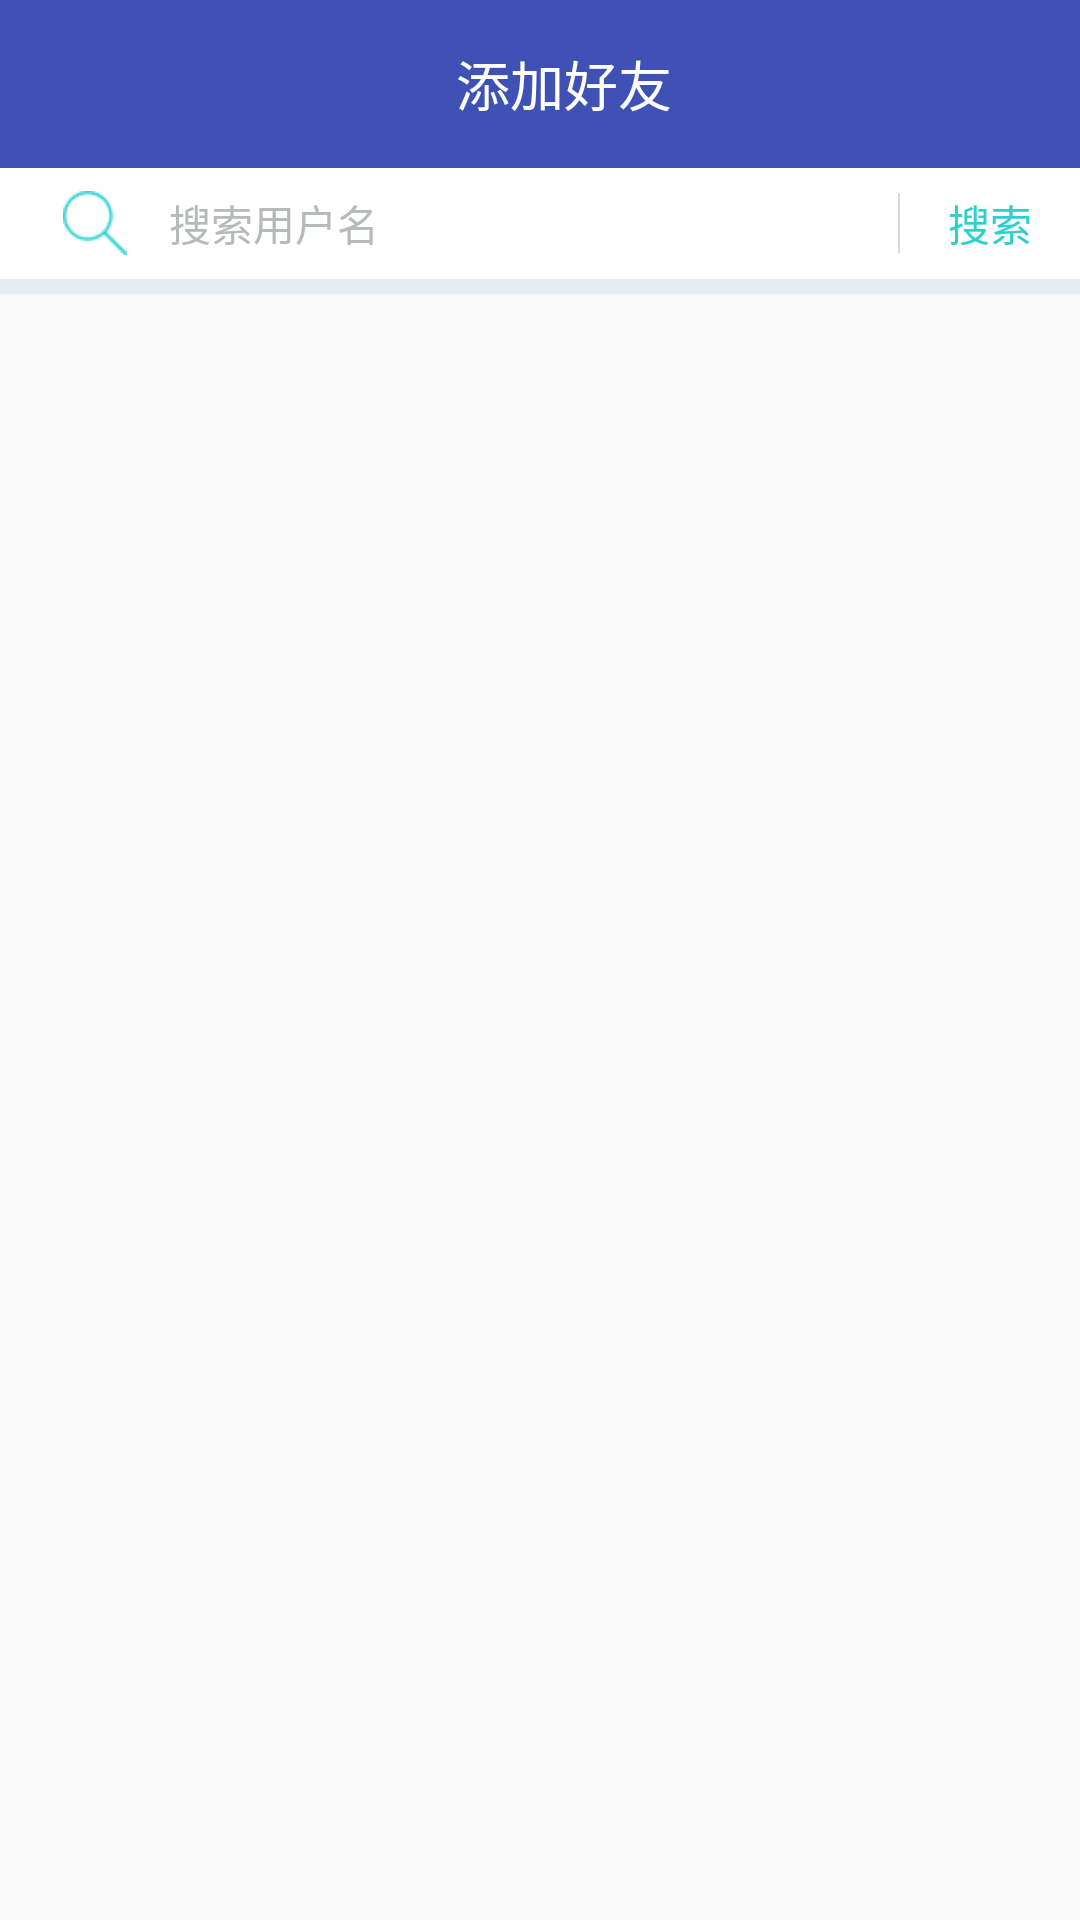

Where icons sit on this 1080*1920 app screen, as (x1, y1, x2, y2):
search: (63, 191, 127, 255)
